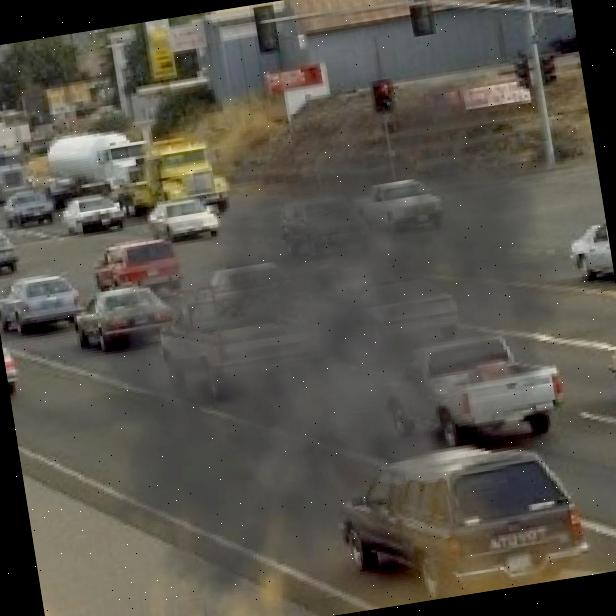smoke: (9, 19, 616, 616)
